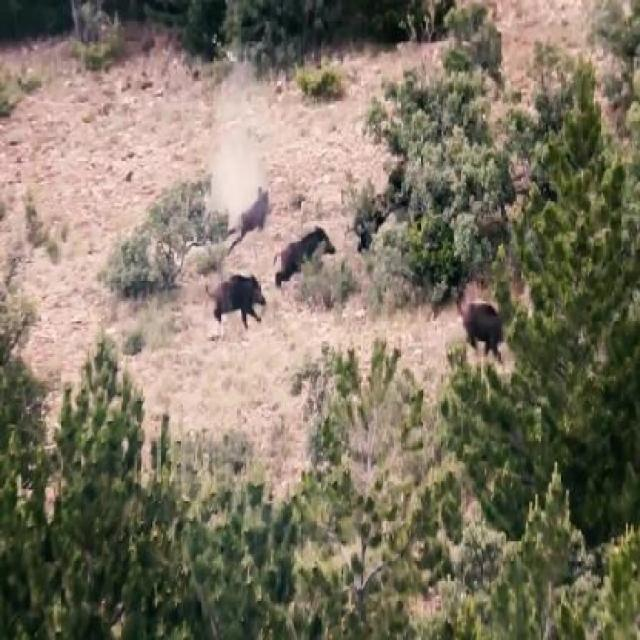pig: (199, 248, 273, 338), (452, 284, 516, 354), (274, 226, 330, 282)
